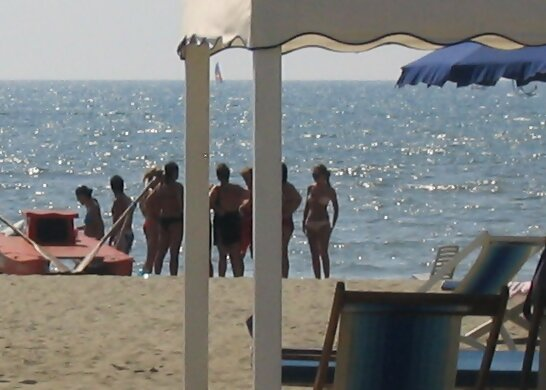person: (301, 163, 346, 284), (212, 162, 249, 280)
